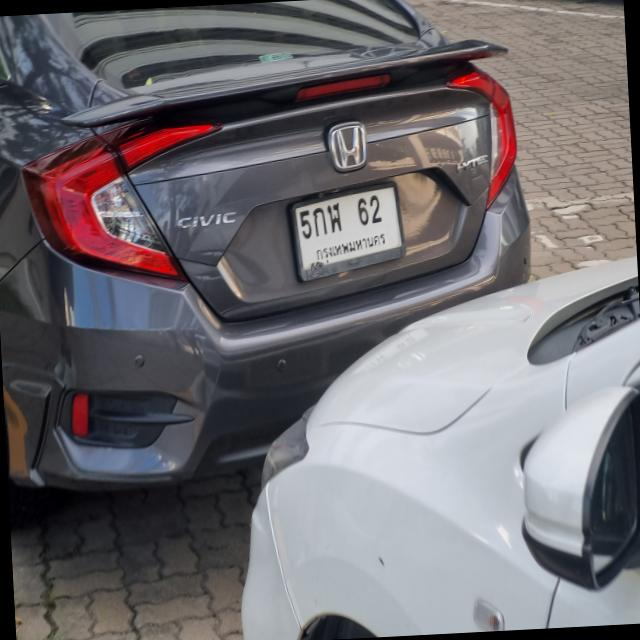license_plate: (290, 182, 404, 283)
